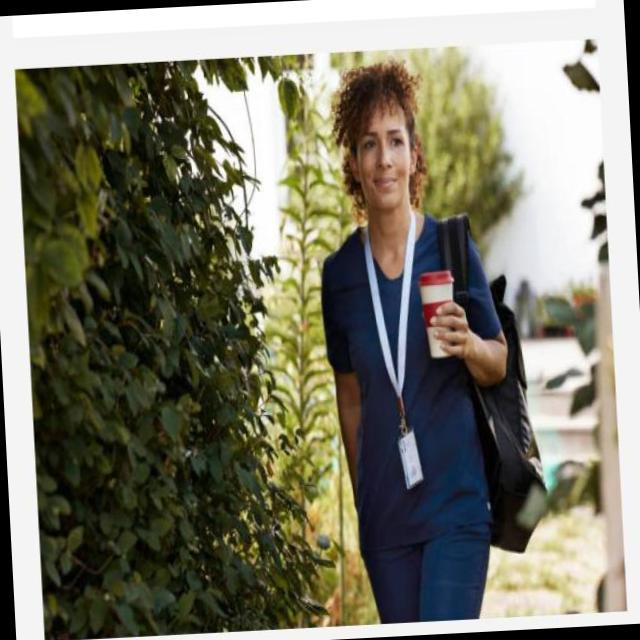id_card: (366, 205, 432, 492)
